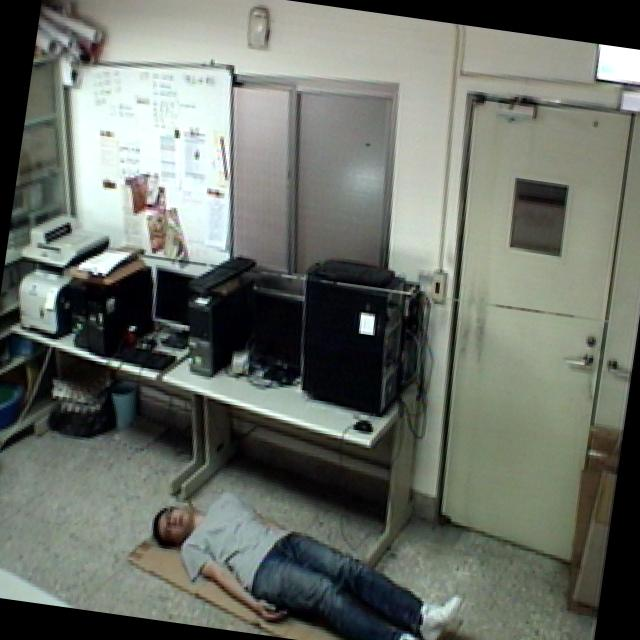lie: (130, 459, 480, 640)
